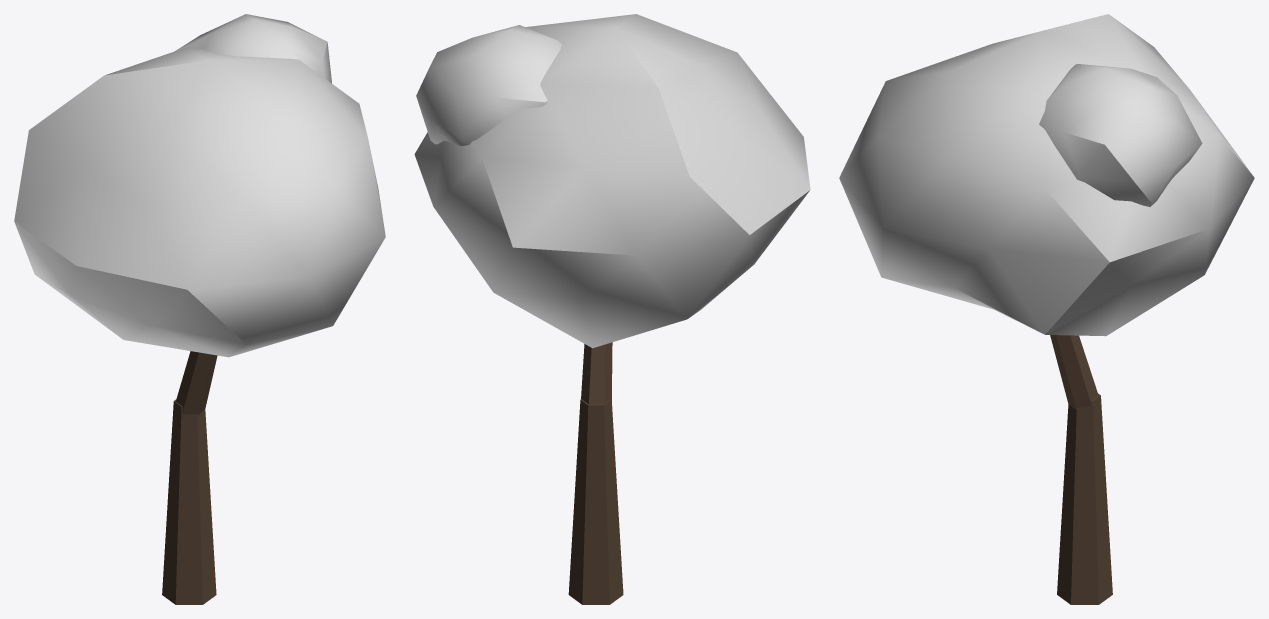
The model's file is tree_lolly.glb.
3 views of the same model, side by side, from view 1: azimuth 30°, elevation 25°; view 2: azimuth 150°, elevation 25°; view 3: azimuth 270°, elevation 25° (orthographic). The views are drawn at different scales.
Visible parts, largest first — view 1: tree_lolly; view 2: tree_lolly; view 3: tree_lolly.
Boxes of the visible parts, x1=… form: tree_lolly: x1=14, y1=14, x2=385, y2=604; tree_lolly: x1=414, y1=14, x2=810, y2=604; tree_lolly: x1=839, y1=14, x2=1254, y2=604.
Size of the model in its own units: 3.94 by 6.24 by 4.16.
